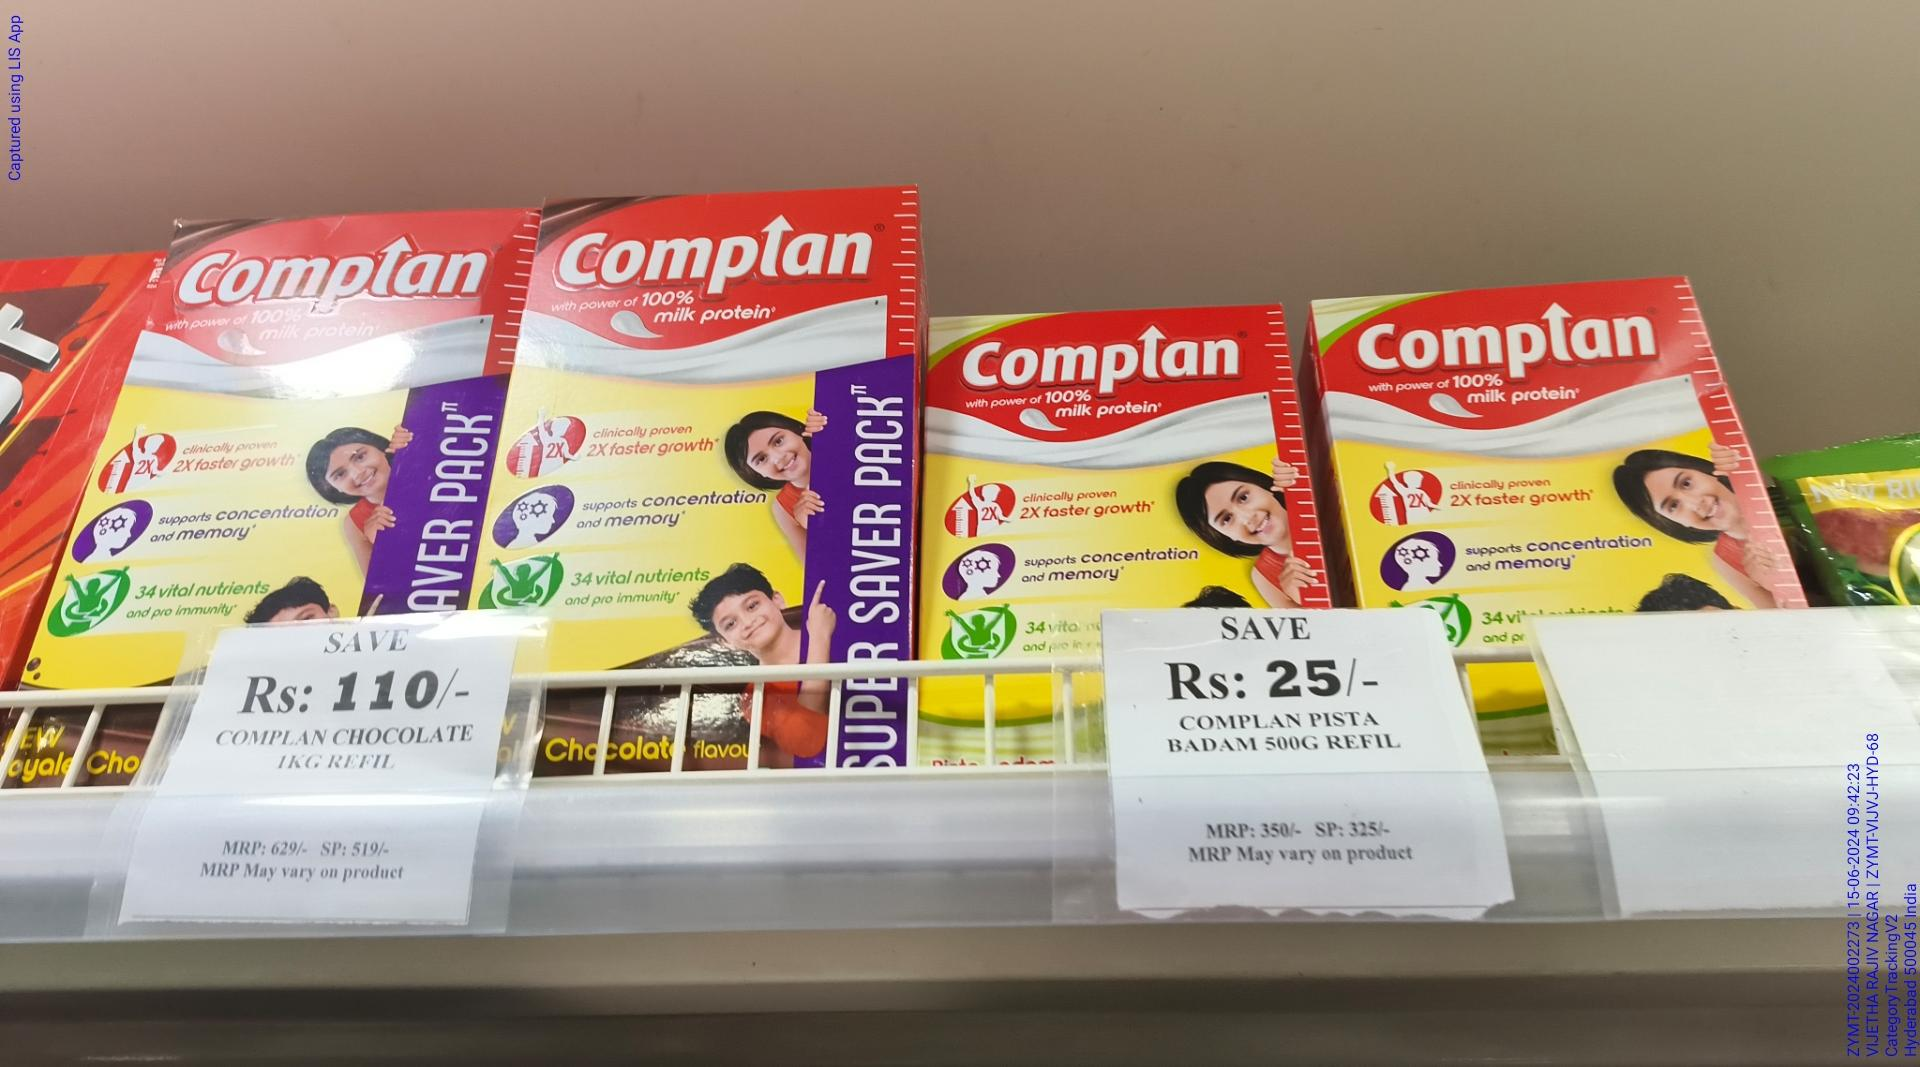COMPLAN_CHOCOLATE_1_KG_PACK: (516, 188, 900, 771)
COMPLAN_PISTA_BADAM_500_GMS_PACK: (1333, 294, 1776, 602), (925, 305, 1308, 598)
